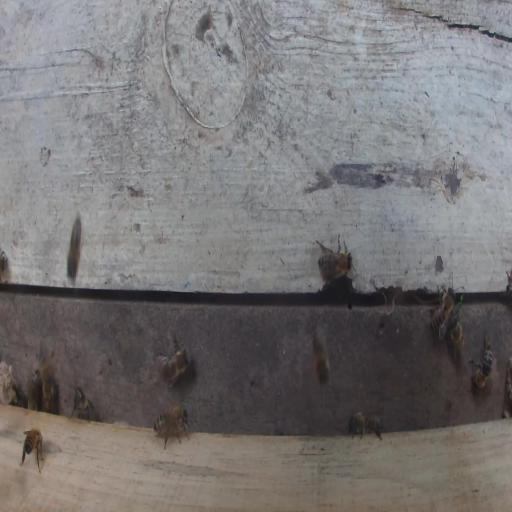nonpollenbee: (427, 269, 458, 340), (314, 232, 354, 285), (157, 332, 191, 389), (152, 405, 192, 450), (467, 331, 493, 392), (64, 210, 83, 284), (19, 425, 45, 475), (312, 324, 332, 386), (346, 411, 386, 441), (450, 313, 466, 371), (70, 387, 91, 423), (43, 376, 58, 415)
